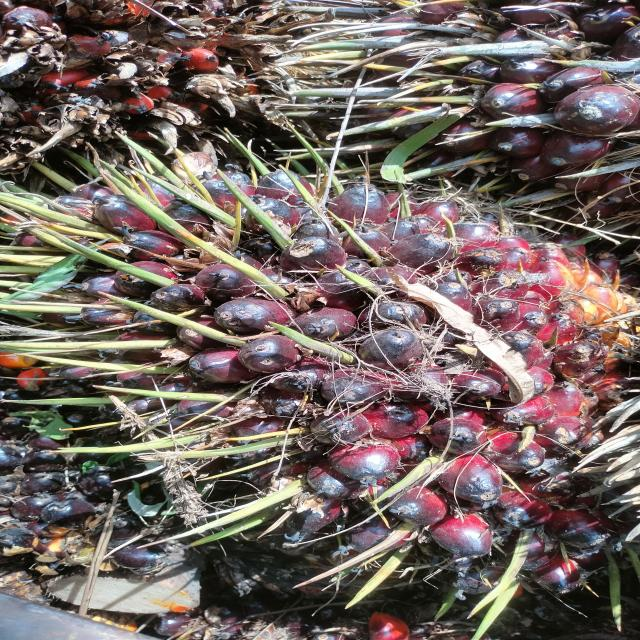fraksi 1: (37, 122, 625, 596)
